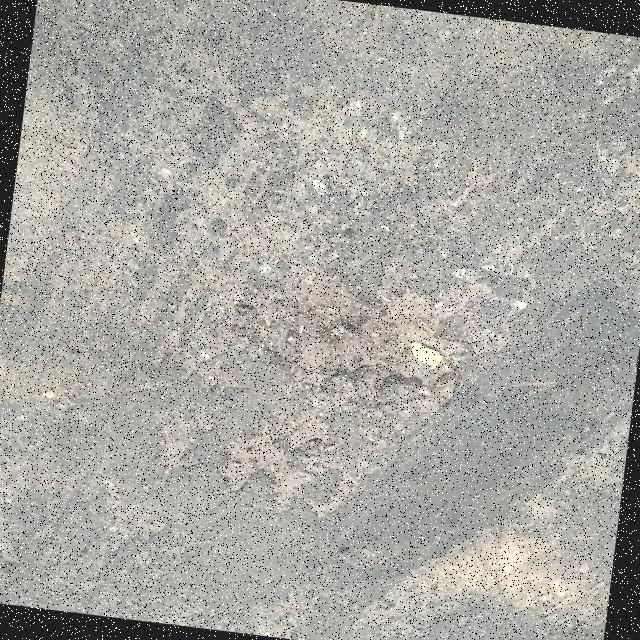Pothole: (213, 257, 467, 520)
